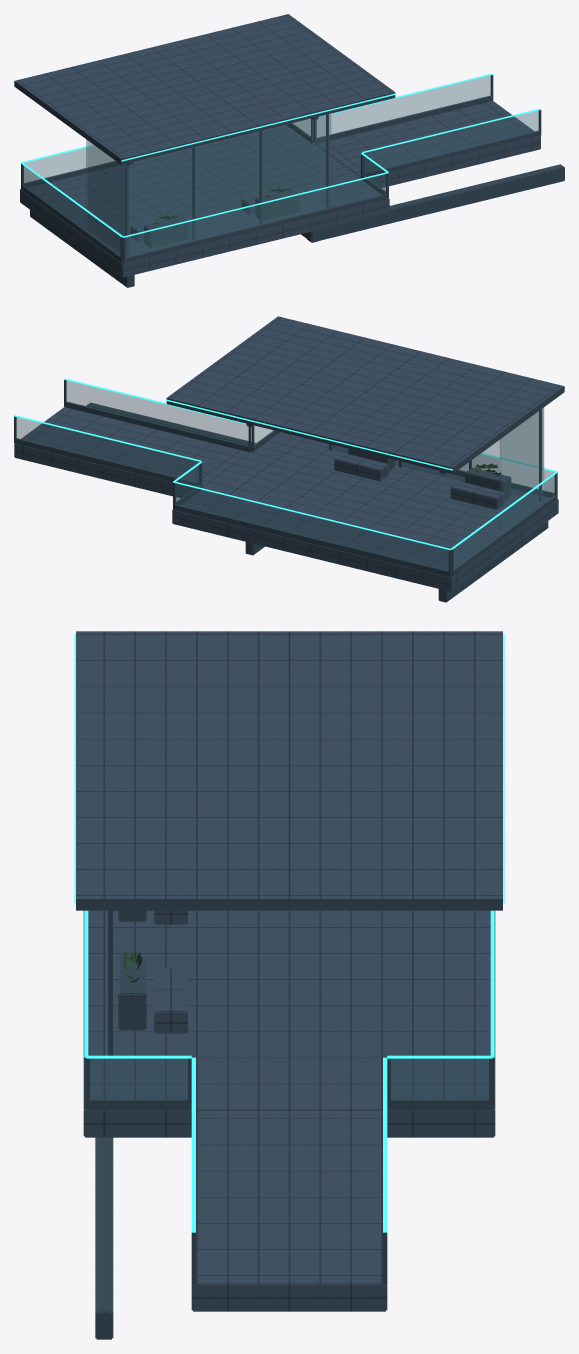
Rendered from public-terrace-128.glb.
3 renders of one model, top to bottom at view 1: azimuth 30°, elevation 25°; view 2: azimuth 150°, elevation 25°; view 3: azimuth 270°, elevation 25°, orthographic. The views are drawn at different scales.
Visible parts, largest first — view 1: public-terrace-128; view 2: public-terrace-128; view 3: public-terrace-128.
Boxes of the visible parts, bbox=[...] form: public-terrace-128: bbox=[14, 14, 564, 287]; public-terrace-128: bbox=[14, 316, 564, 602]; public-terrace-128: bbox=[74, 631, 504, 1339].
Bounding box in the file's own units: 20.15 × 5.8 × 8.37.
Materials: 7 (1 with a texture image).
